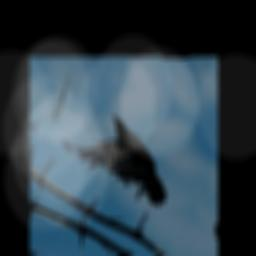Crow: (53, 92, 182, 216)
